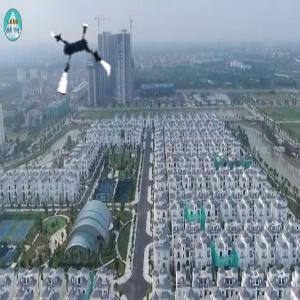drone: (41, 24, 115, 98)
